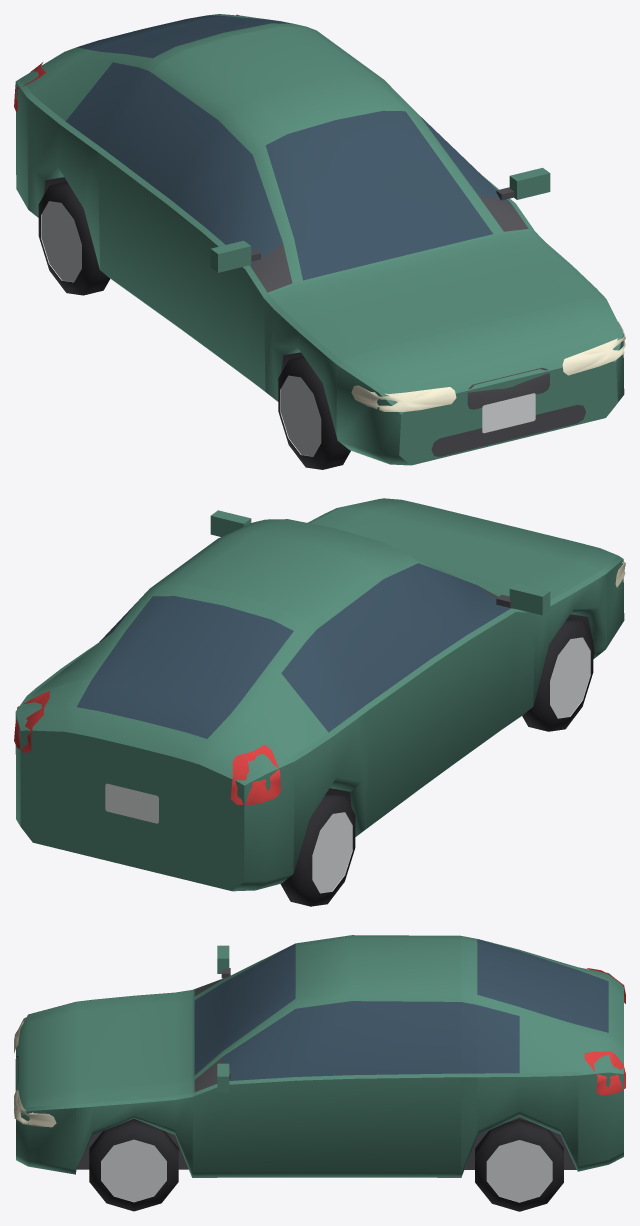
The model's file is site_car4.fbx.
3 views of the same model, one above another, from view 1: azimuth 30°, elevation 25°; view 2: azimuth 150°, elevation 25°; view 3: azimuth 270°, elevation 25° (orthographic). The views are drawn at different scales.
Visible parts, largest first — view 1: a2020/0/site_car4; view 2: a2020/0/site_car4; view 3: a2020/0/site_car4.
Part boxes in pixels (left/top/right/bottom): a2020/0/site_car4: left=14, top=14, right=625, bottom=469; a2020/0/site_car4: left=14, top=498, right=625, bottom=906; a2020/0/site_car4: left=14, top=935, right=625, bottom=1211.
Bounding box in the file's own units: 2.05 × 1.5 × 4.05.
